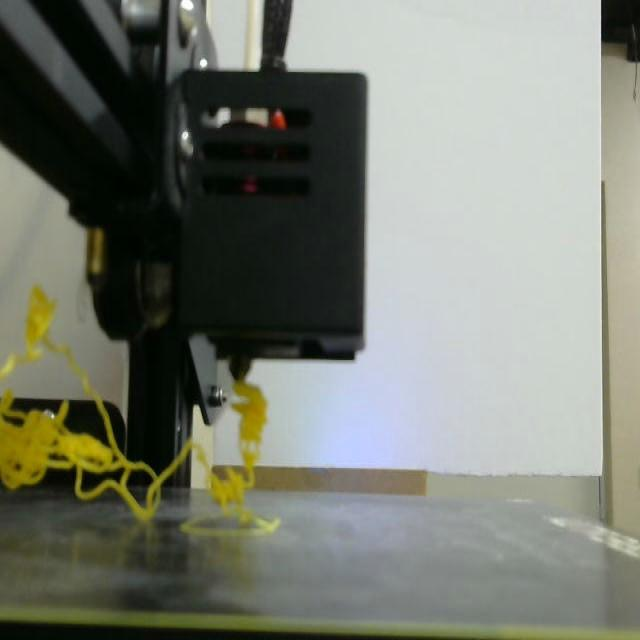spaghetti: (0, 287, 280, 534)
